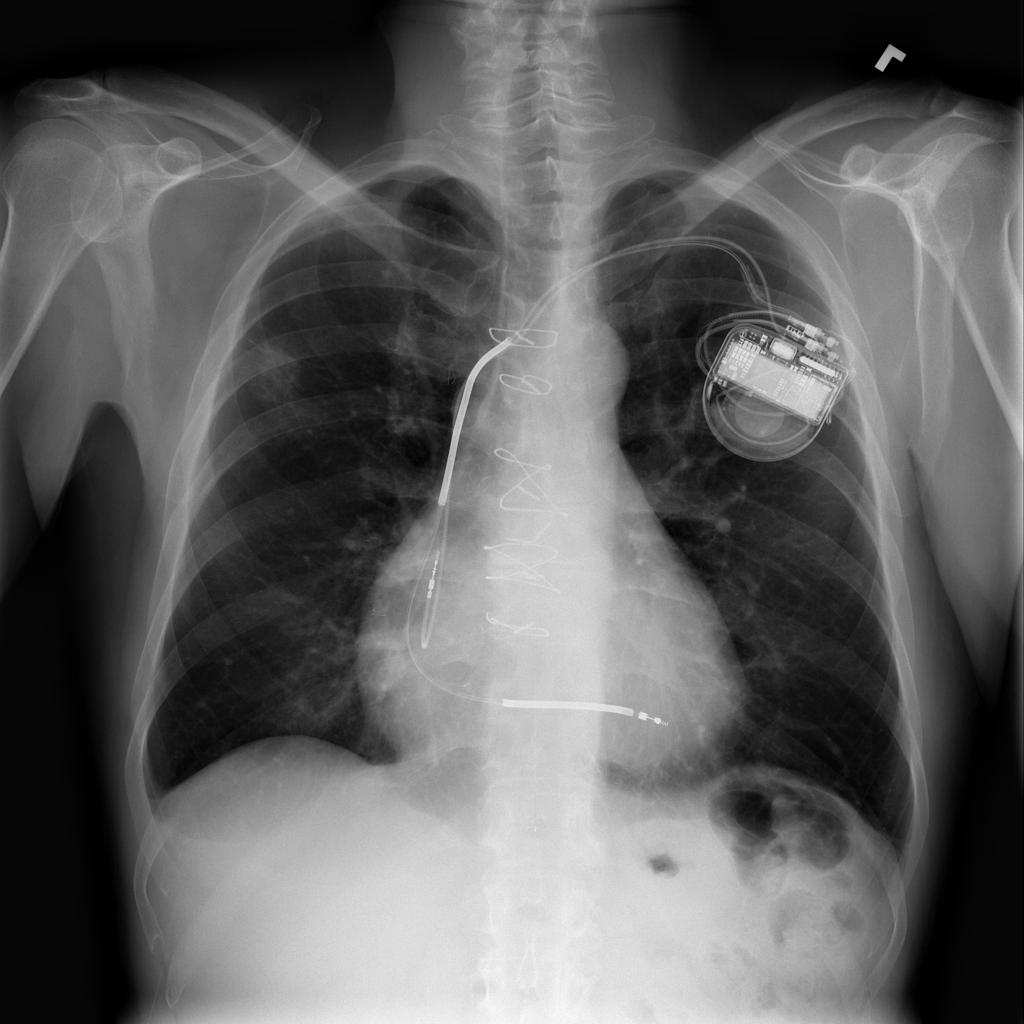nodule: (225, 319, 325, 427)
